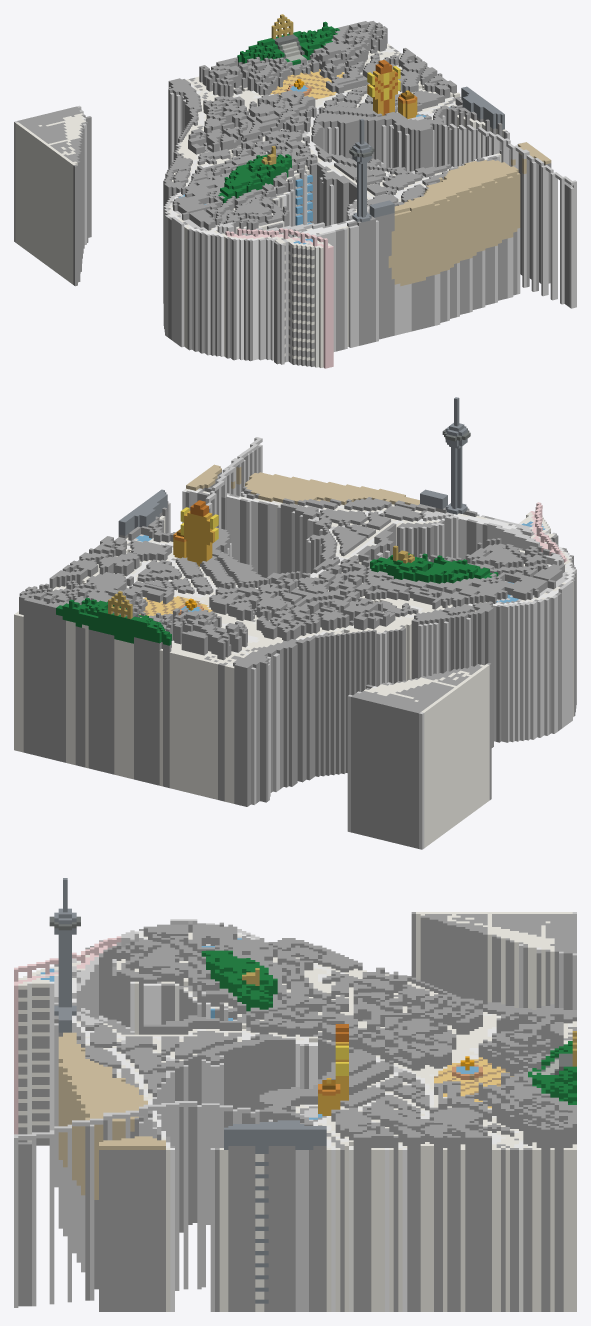
The model's file is 200607 macau ver4-1.obj.
The picture shows the model from 3 angles, top to bottom: view 1: azimuth 30°, elevation 25°; view 2: azimuth 150°, elevation 25°; view 3: azimuth 270°, elevation 25°; orthographic projection. The views are drawn at different scales.
Bounding box in the file's own units: 12.6 × 7.4 × 12.6.
1 material, 1 textured.
